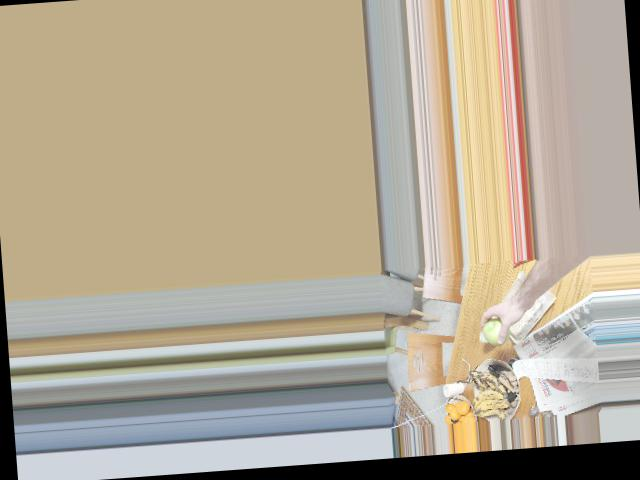apple: (481, 311, 520, 346)
